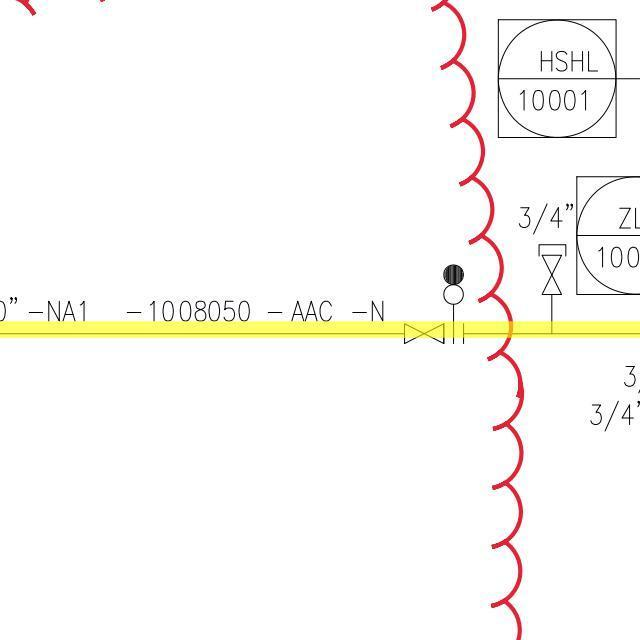EC: (535, 237, 569, 318)
GV: (399, 319, 446, 346), (541, 252, 563, 298)
